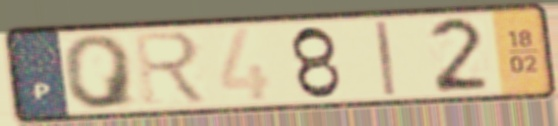2: (424, 14, 496, 96)
4: (216, 25, 276, 104)
8: (287, 24, 344, 99)
I: (371, 18, 399, 98)
Q: (59, 32, 141, 112)
R: (130, 29, 213, 107)
